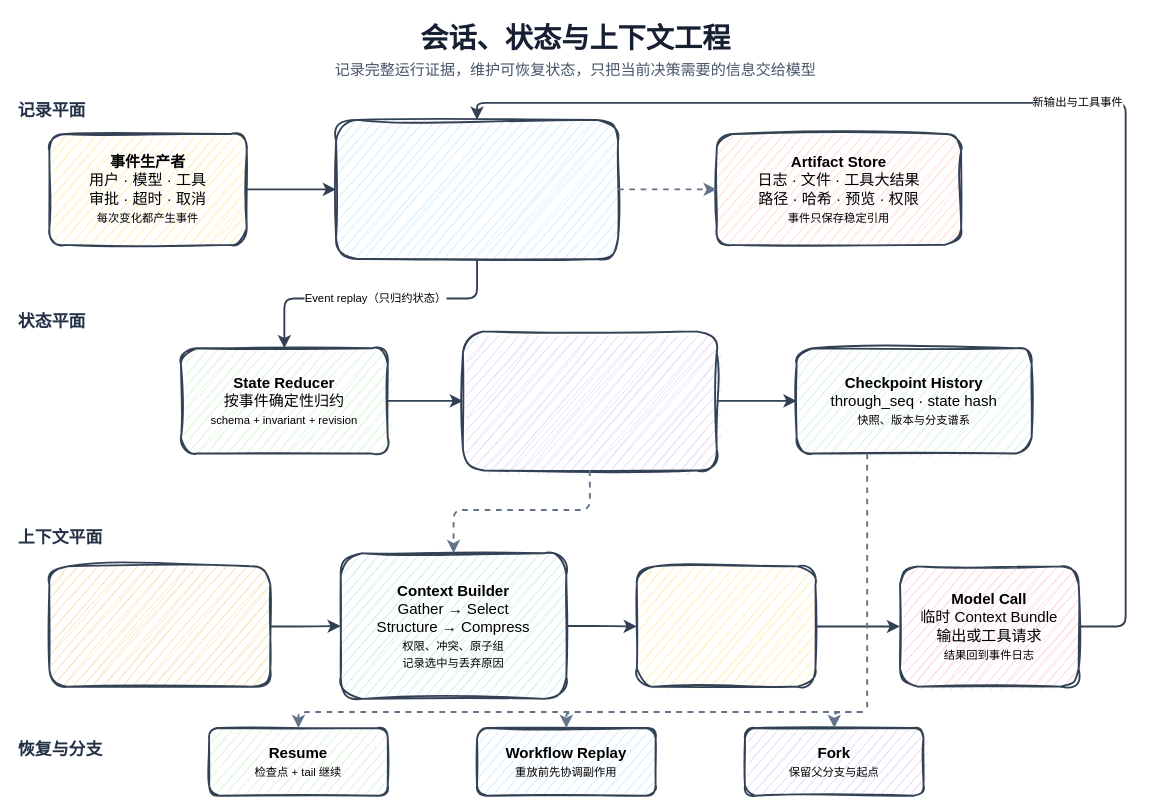
Image size: 1152x812. Some labels were removed from this diagram. Each missing label, with the centre of its shape:
"Append-only Event Log session / run / turn / seq 因果 ID · 幂等键 · 安全标签 原始运行证据不被压缩覆盖" goes at point 477,188.
"Budget Guard 必选项先入场 token · 延迟 · 风险 超限则显式失败" goes at point 725,626.
"Operational State 目标 · 阶段 · 计划 · 约束 待办 · 审批 · 副作用 · 预算 回答“现在怎样继续执行”" goes at point 589,400.
"候选信息源 策略 · 状态 · recent tail Memory · RAG · 工件引用 来源、时效、信任、依赖" goes at point 159,626.
